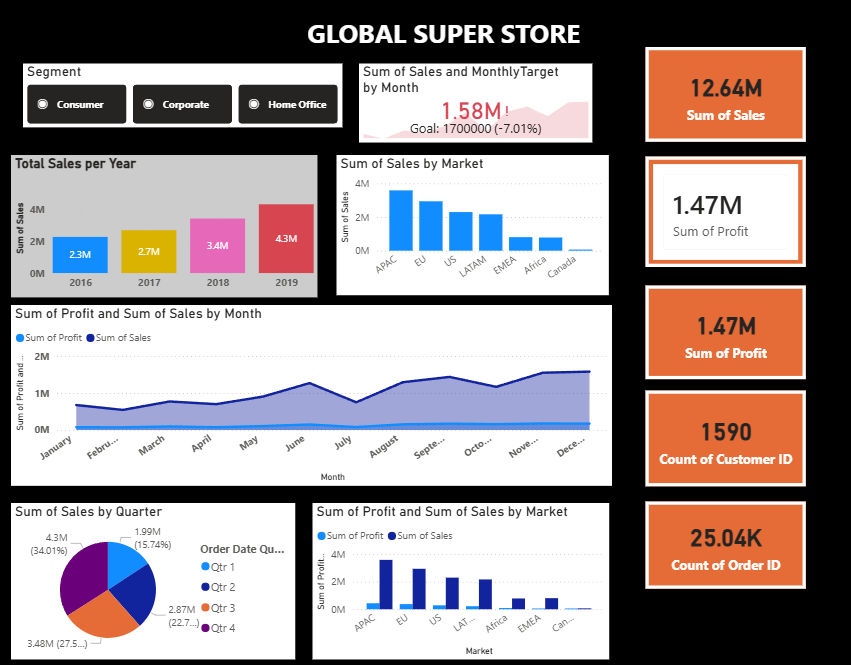

The dashboard page shown, as its layout file describes it:
{"tool":"powerbi","page":{"name":"Page 1","canvas":[1059,836],"ordinal":0},"visuals":[{"type":"textbox","box":[370.6,0,367.4,117.7],"z":0},{"type":"card","fields":{"Values":["Sum(Orders.Profit)"]},"box":[803.8,353.3,197.6,115.5],"z":1000},{"type":"card","fields":{"Values":["Count(Orders.Customer ID)"]},"box":[804.2,481.9,197.2,118.1],"z":2000},{"type":"card","fields":{"Values":["Count(Orders.Order ID)"]},"box":[803.8,619.6,197.6,107.2],"z":3000},{"type":"columnChart","title":"Total Sales per Year","fields":{"Category":["Orders.Order Date.Variation.Date Hierarchy.Year"],"Y":["Sum(Orders.Sales)"]},"box":[22.5,192.5,377.5,175],"z":4000},{"type":"lineChart","fields":{"Category":["Orders.Order Date.Variation.Date Hierarchy.Month"],"Y":["Sum(Orders.Profit)","Sum(Orders.Sales)"]},"box":[22.5,377.5,740,222.5],"z":5000},{"type":"lineStackedColumnComboChart","fields":{"Category":["Orders.Market"],"Y":["Sum(Orders.Sales)"]},"box":[422.5,192.5,335,172.5],"z":6000},{"type":"advancedSlicerVisual","fields":{"Values":["Orders.Segment"]},"box":[36.8,78.7,393.5,78.7],"z":7000},{"type":"card","fields":{"Values":["Sum(Orders.Sales)"]},"box":[804.2,59.7,197.2,116.7],"z":8000},{"type":"pieChart","fields":{"Y":["Sum(Orders.Sales)"],"Category":["Orders.Order Date.Variation.Date Hierarchy.Quarter"]},"box":[22.5,620,350,192.5],"z":9000},{"type":"lineClusteredColumnComboChart","fields":{"Category":["Orders.Market"],"Y":["Sum(Orders.Profit)","Sum(Orders.Sales)"]},"box":[392.5,620,365,192.5],"z":10000},{"type":"cardVisual","fields":{"Data":["Sum(Orders.Profit)"]},"box":[804.2,193.1,197.2,136.1],"z":11000},{"type":"kpi","fields":{"Indicator":["Sum(Orders.Sales)"],"TrendLine":["Orders.Order Date.Variation.Date Hierarchy.Month"],"Goal":["Customer.MonthlyTarget"]},"box":[451.4,79.2,287.5,97.2],"z":11001}]}

Visuals, with their boxes in screenshot pixels (x1, y1, x2, y2), scaled from the page's 1059x836 canvas onto the 851x665 screenshot:
textbox: BBox(298, 0, 593, 94)
card - Sum(Orders.Profit): BBox(646, 281, 805, 373)
card - Count(Orders.Customer ID): BBox(646, 383, 805, 477)
card - Count(Orders.Order ID): BBox(646, 493, 805, 578)
"Total Sales per Year" columnChart: BBox(18, 153, 321, 292)
lineChart - Orders.Order Date.Variation.Date Hierarchy.Month x Sum(Orders.Profit): BBox(18, 300, 613, 477)
lineStackedColumnComboChart - Orders.Market x Sum(Orders.Sales): BBox(340, 153, 609, 290)
advancedSlicerVisual - Orders.Segment: BBox(30, 63, 346, 125)
card - Sum(Orders.Sales): BBox(646, 47, 805, 140)
pieChart - Sum(Orders.Sales) x Orders.Order Date.Variation.Date Hierarchy.Quarter: BBox(18, 493, 299, 646)
lineClusteredColumnComboChart - Orders.Market x Sum(Orders.Profit): BBox(315, 493, 609, 646)
cardVisual - Sum(Orders.Profit): BBox(646, 154, 805, 262)
kpi - Sum(Orders.Sales) x Orders.Order Date.Variation.Date Hierarchy.Month: BBox(363, 63, 594, 140)
